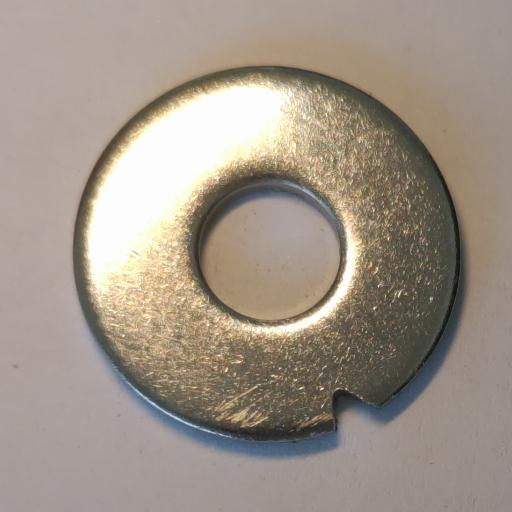burr: (329, 387, 380, 431)
